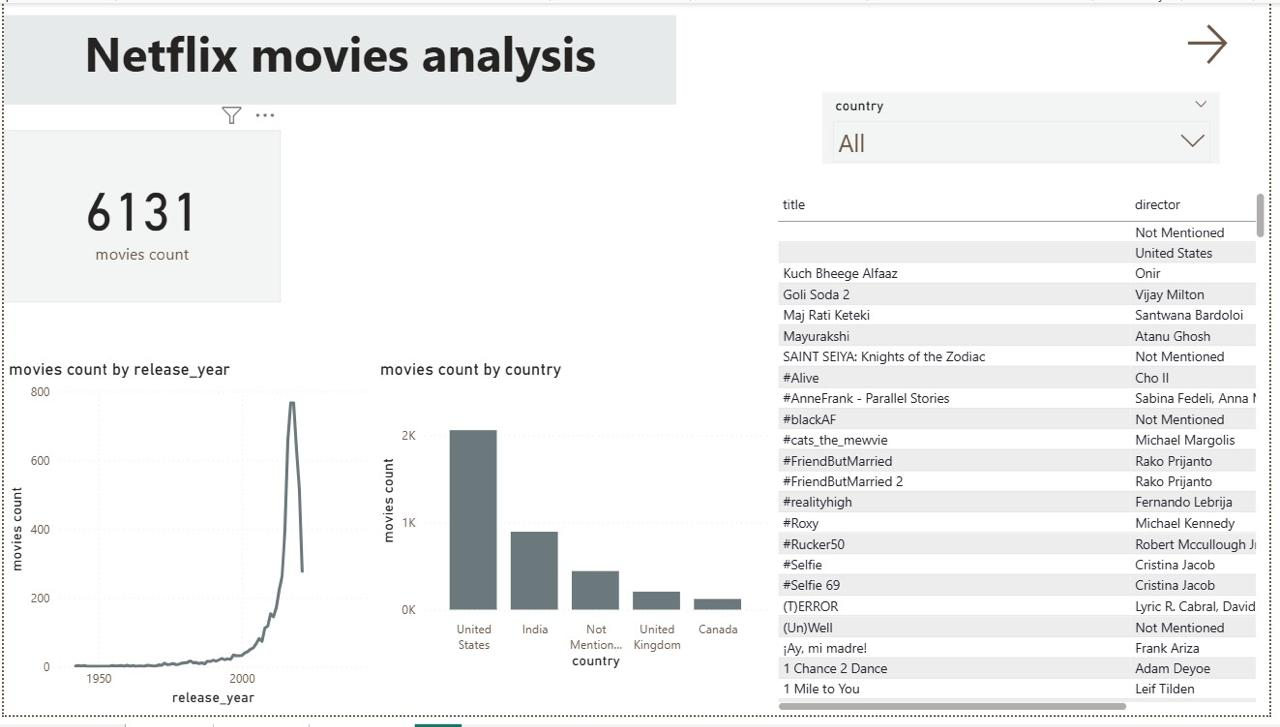

Layout of this report page (visuals, bound fields, positions):
{"tool":"powerbi","page":{"name":"movies","canvas":[1280,720],"ordinal":1},"visuals":[{"type":"card","fields":{"Values":["netflix_titles.movies count"]},"box":[0,128.3,280,173.3],"z":0},{"type":"lineChart","fields":{"Category":["netflix_titles.release_year"],"Y":["netflix_titles.movies count"]},"box":[0,360,375,355],"z":1000},{"type":"columnChart","fields":{"Category":["netflix_titles.country"],"Y":["netflix_titles.movies count"]},"box":[375,360,401.7,318.3],"z":2000},{"type":"slicer","fields":{"Values":["netflix_titles.country"]},"box":[828.3,90,401.7,71.7],"z":3000},{"type":"tableEx","fields":{"Values":["netflix_titles.title","netflix_titles.director"]},"box":[776.7,186.7,503.3,533.3],"z":4000},{"type":"textbox","box":[0,12.2,679.9,90.5],"z":5000},{"type":"actionButton","box":[1166.7,11.7,100,60],"z":6000}]}

Visuals, with their boxes in screenshot pixels (x1, y1, x2, y2), scaled from the page's 1280x720 canvas onto the 1280x727 screenshot:
card - netflix_titles.movies count: 0,130,280,305
lineChart - netflix_titles.release_year x netflix_titles.movies count: 0,364,375,722
columnChart - netflix_titles.country x netflix_titles.movies count: 375,364,777,685
slicer - netflix_titles.country: 828,91,1230,163
tableEx - netflix_titles.title x netflix_titles.director: 777,189,1279,726
textbox: 0,12,680,104
actionButton: 1167,12,1267,72
